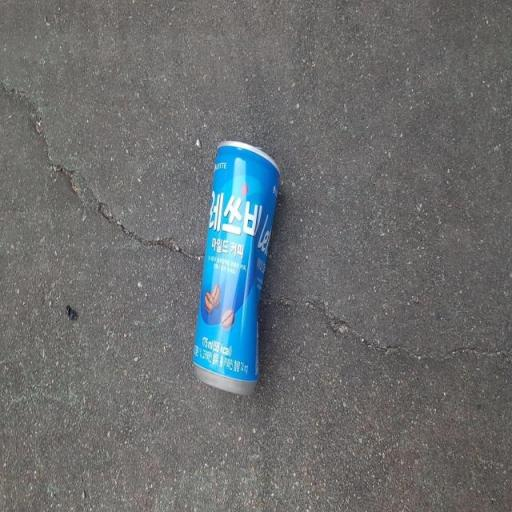metal: (169, 125, 288, 429)
